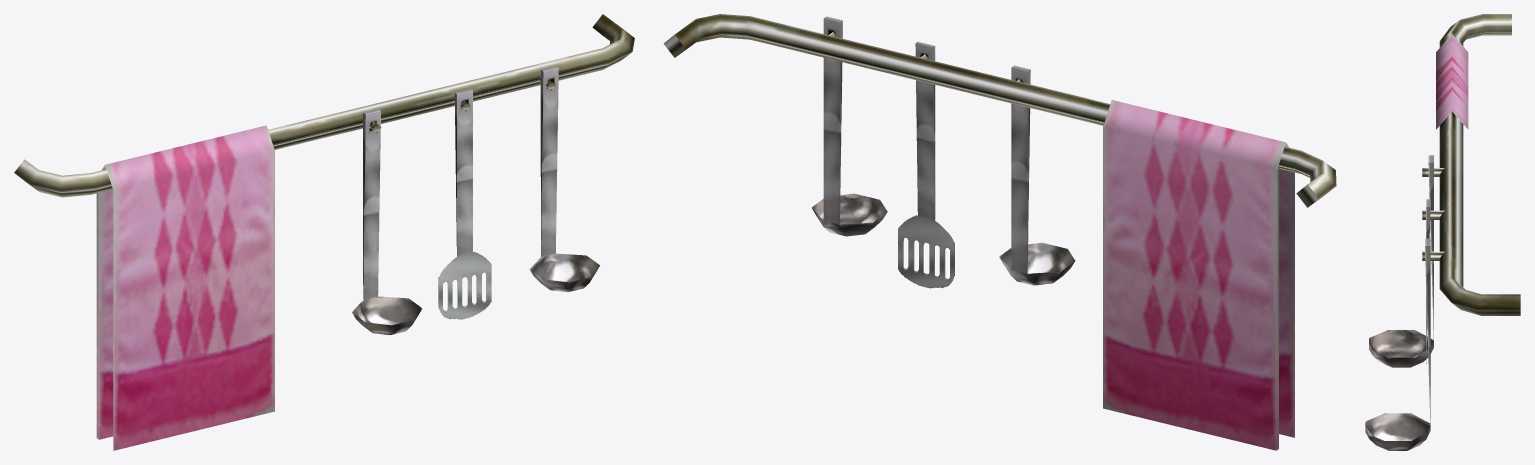
The model's file is furni_0200135.FBX.
3 renders of one model, left to right at view 1: azimuth 30°, elevation 25°; view 2: azimuth 150°, elevation 25°; view 3: azimuth 270°, elevation 25°, orthographic. The views are drawn at different scales.
Parts seen in each view (by area): view 1: furni_0200135_03; view 2: furni_0200135_03; view 3: furni_0200135_03.
Boxes of the visible parts, bbox=[...] form: furni_0200135_03: bbox=[14, 14, 634, 450]; furni_0200135_03: bbox=[663, 14, 1336, 450]; furni_0200135_03: bbox=[1365, 14, 1520, 450].
Bounding box in the file's own units: 82.03 × 36.39 × 18.51.
1 material, 1 textured.
